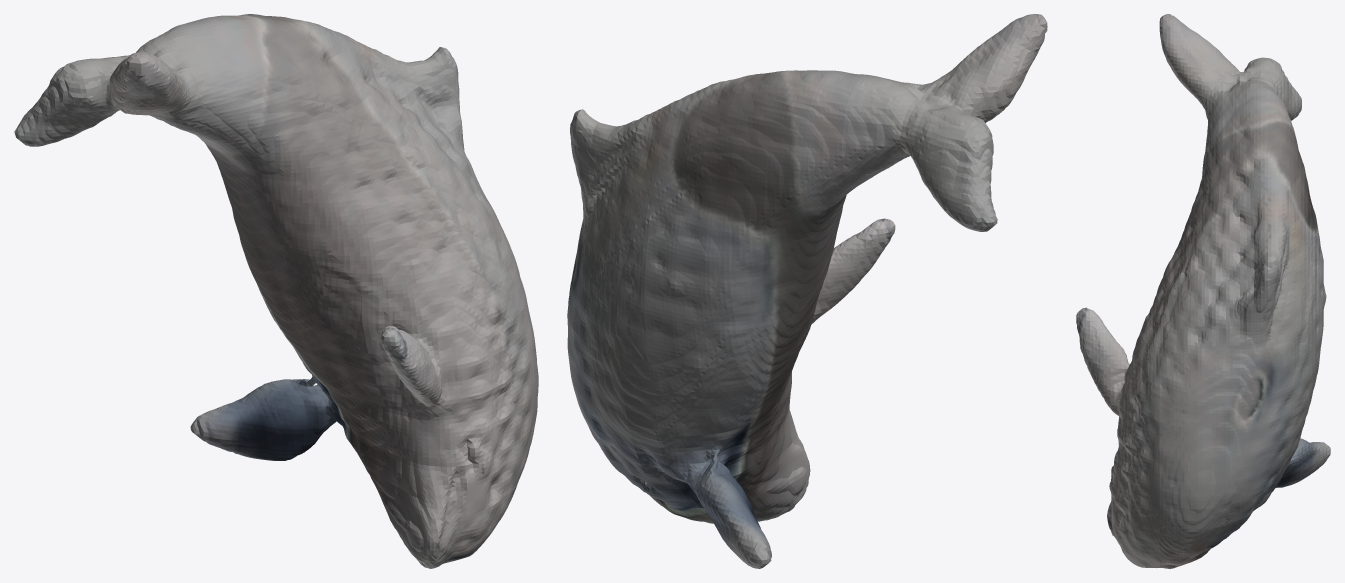
File: irrawaddy_dolphin.glb
3 renders of one model, left to right at view 1: azimuth 30°, elevation 25°; view 2: azimuth 150°, elevation 25°; view 3: azimuth 270°, elevation 25°, orthographic. The views are drawn at different scales.
Visible parts, largest first — view 1: world; view 2: world; view 3: world.
Boxes of the visible parts, <box> form: world: <box>14,14,538,568</box>; world: <box>567,14,1047,568</box>; world: <box>1076,14,1330,568</box>.
Size of the model in its own units: 0.7885 by 0.9382 by 0.4974.
